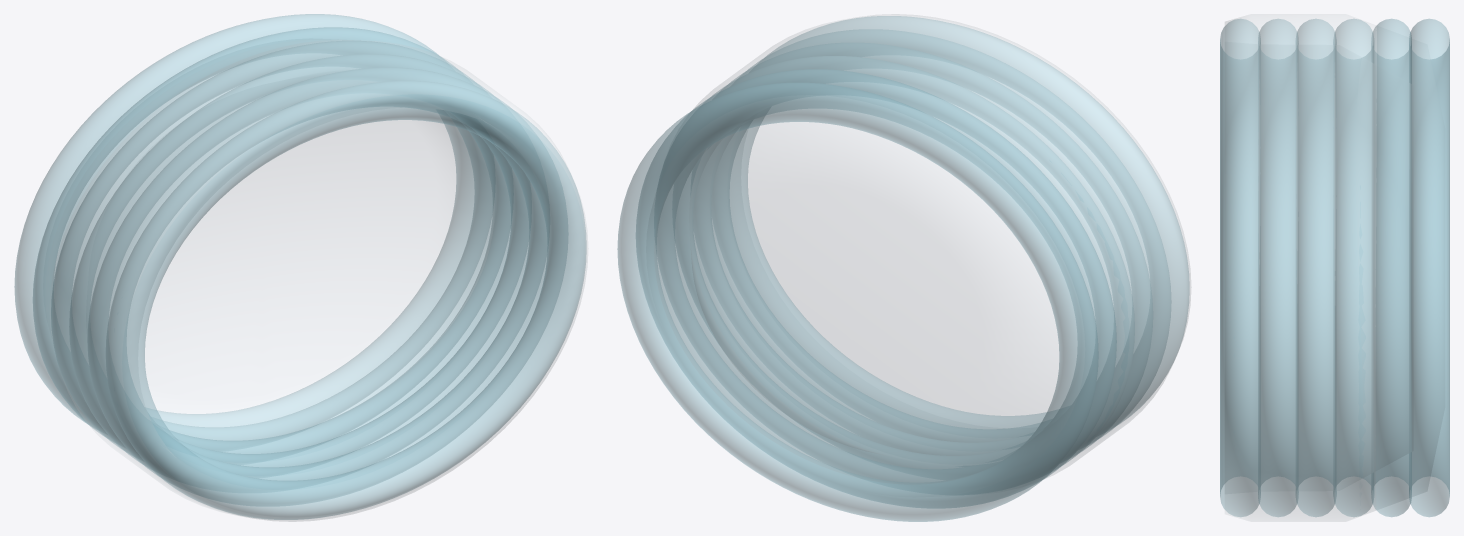
3 renders of one model, left to right at view 1: azimuth 30°, elevation 25°; view 2: azimuth 150°, elevation 25°; view 3: azimuth 270°, elevation 25°, orthographic. The views are drawn at different scales.
Visible parts, largest first — view 1: reservoir-shell, pleat-5, pleat-4, pleat-3, pleat-2, pleat-1, pleat-0; view 2: reservoir-shell, pleat-0, pleat-1, pleat-2, pleat-3, pleat-4, pleat-5; view 3: reservoir-shell, pleat-0, pleat-5, pleat-1, pleat-2, pleat-3, pleat-4.
Boxes of the visible parts, x1,y1,x2,y2 form: reservoir-shell: (49, 40, 588, 521); pleat-5: (106, 81, 586, 519); pleat-4: (87, 67, 567, 505); pleat-3: (69, 54, 547, 480); pleat-2: (51, 41, 528, 466); pleat-1: (33, 27, 510, 453); pleat-0: (14, 14, 492, 440); reservoir-shell: (654, 14, 1191, 484); pleat-0: (617, 83, 1098, 521); pleat-1: (636, 69, 1116, 508); pleat-2: (657, 56, 1134, 482); pleat-3: (675, 43, 1152, 468); pleat-4: (709, 29, 1171, 451); pleat-5: (727, 16, 1189, 438); reservoir-shell: (1225, 14, 1413, 521); pleat-0: (1409, 19, 1449, 516); pleat-5: (1220, 19, 1260, 516); pleat-1: (1371, 19, 1411, 516); pleat-2: (1333, 19, 1373, 516); pleat-3: (1296, 19, 1336, 516); pleat-4: (1258, 19, 1298, 516).
Size of the model in its own units: 1.84 by 1.56 by 0.73.
